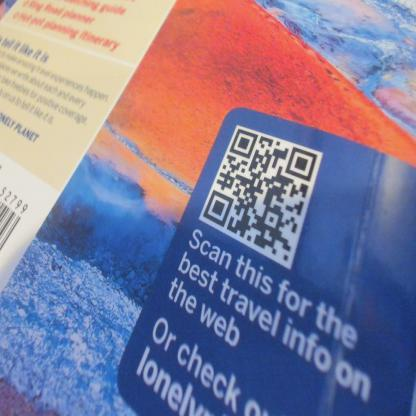barcode: (1, 180, 32, 263)
qr: (198, 126, 327, 266)
